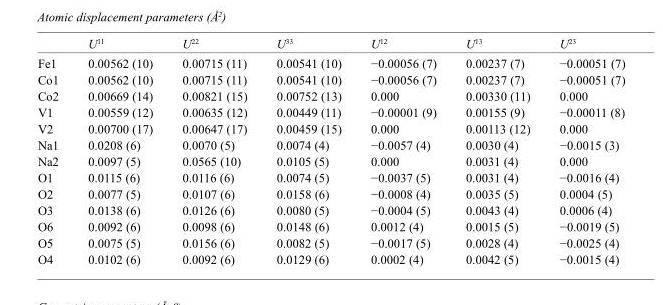table: (36, 36, 624, 265)
table column: (166, 36, 261, 265), (355, 36, 450, 265), (72, 36, 166, 265), (261, 36, 355, 265), (450, 36, 544, 265), (544, 36, 624, 265), (36, 36, 72, 265)
table column header: (36, 36, 624, 53)
table row: (36, 53, 624, 71), (36, 36, 624, 53), (36, 87, 624, 104), (36, 152, 624, 169), (36, 201, 624, 218), (36, 71, 624, 87), (36, 104, 624, 120), (36, 120, 624, 136), (36, 136, 624, 152), (36, 169, 624, 185), (36, 185, 624, 201), (36, 218, 624, 234), (36, 234, 624, 250), (36, 250, 624, 265)
